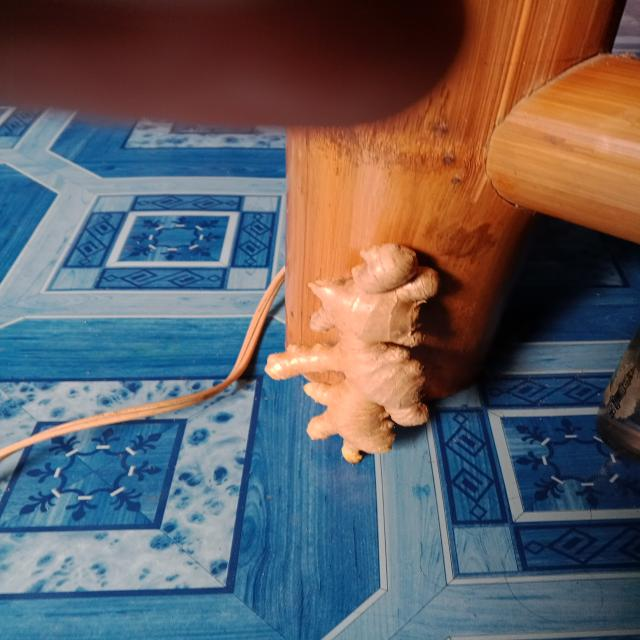ginger: (252, 240, 461, 483)
